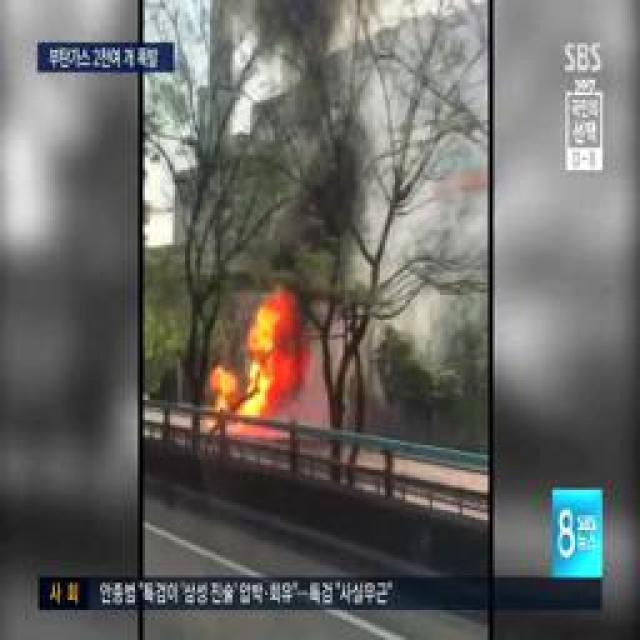Fire: (236, 314, 301, 426), (212, 367, 228, 434)
